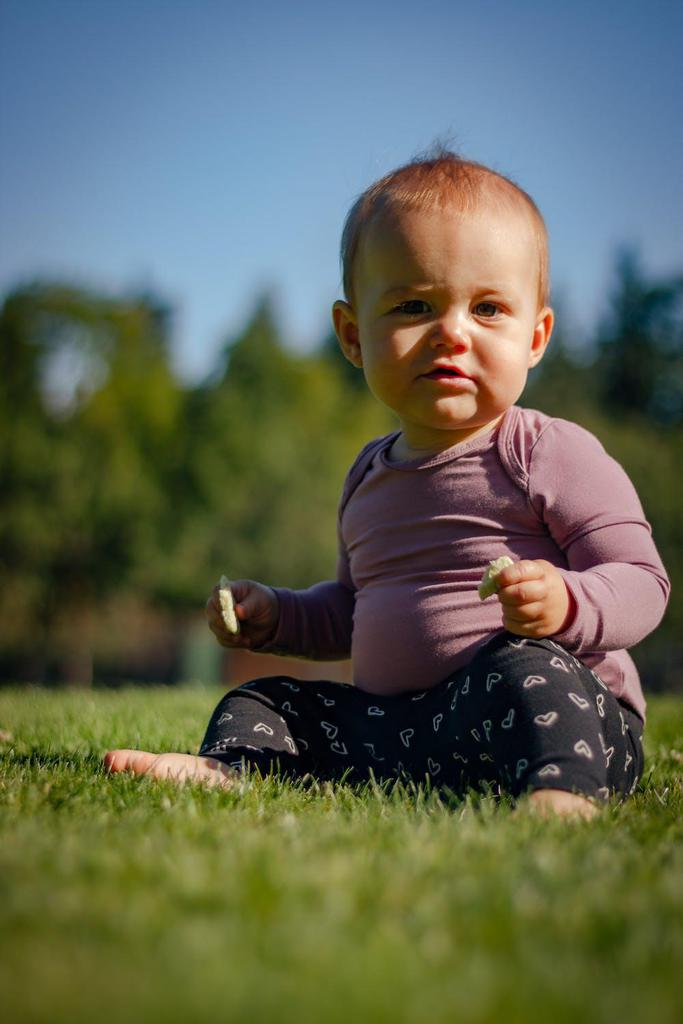child: (95, 126, 672, 839)
